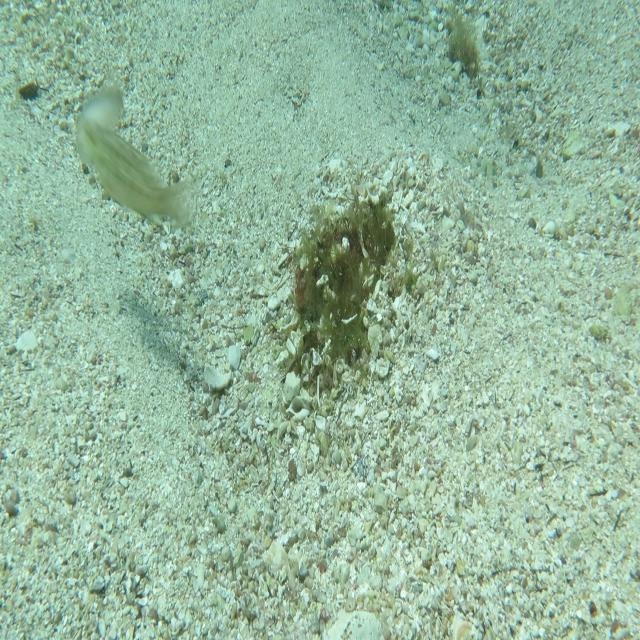CHASE_FLEE: (68, 113, 203, 237)
female: (76, 80, 124, 142)
nest: (272, 175, 417, 412)
